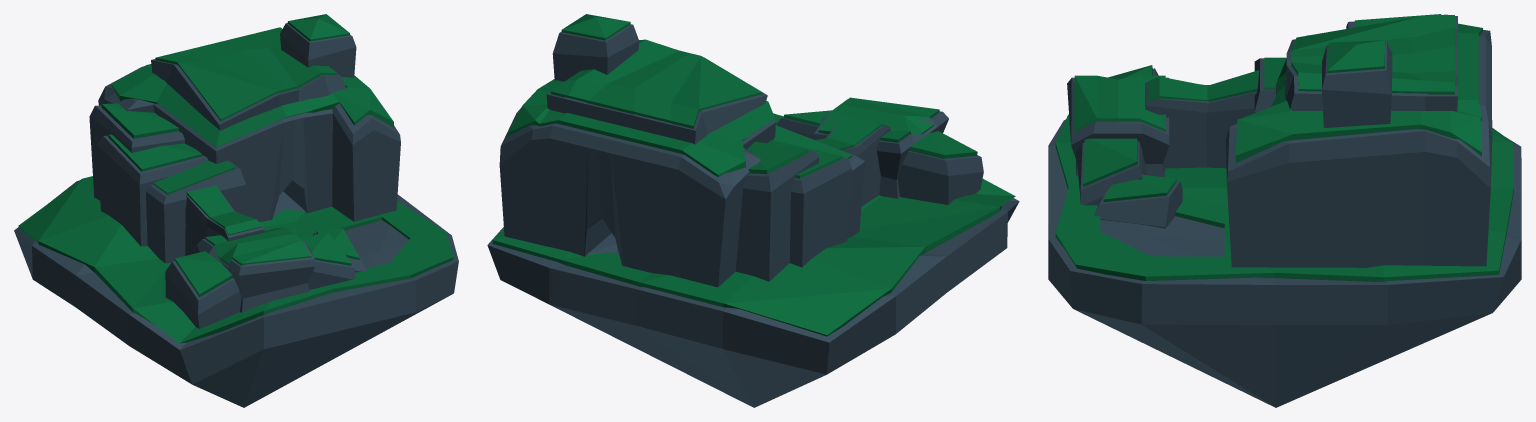
Rendered from Ilha 3.fbx.
3 views of the same model, side by side, from view 1: azimuth 30°, elevation 25°; view 2: azimuth 150°, elevation 25°; view 3: azimuth 270°, elevation 25° (orthographic). The views are drawn at different scales.
Parts seen in each view (by area): view 1: Ilha 3; view 2: Ilha 3; view 3: Ilha 3.
Boxes of the visible parts, left/top/right/bottom form: Ilha 3: left=14, top=14, right=458, bottom=407; Ilha 3: left=487, top=14, right=1019, bottom=407; Ilha 3: left=1048, top=14, right=1521, bottom=407.
Bounding box in the file's own units: 200 × 200 × 200.
